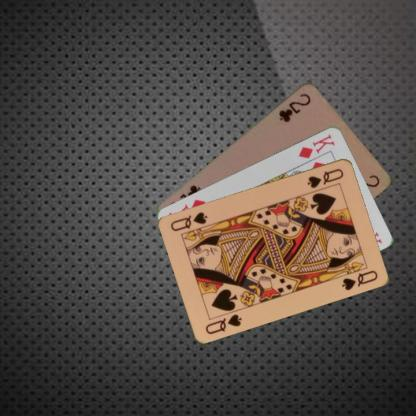2c: (276, 90, 313, 123)
Kd: (296, 131, 336, 160)
Qs: (304, 165, 345, 190), (203, 311, 244, 335)
